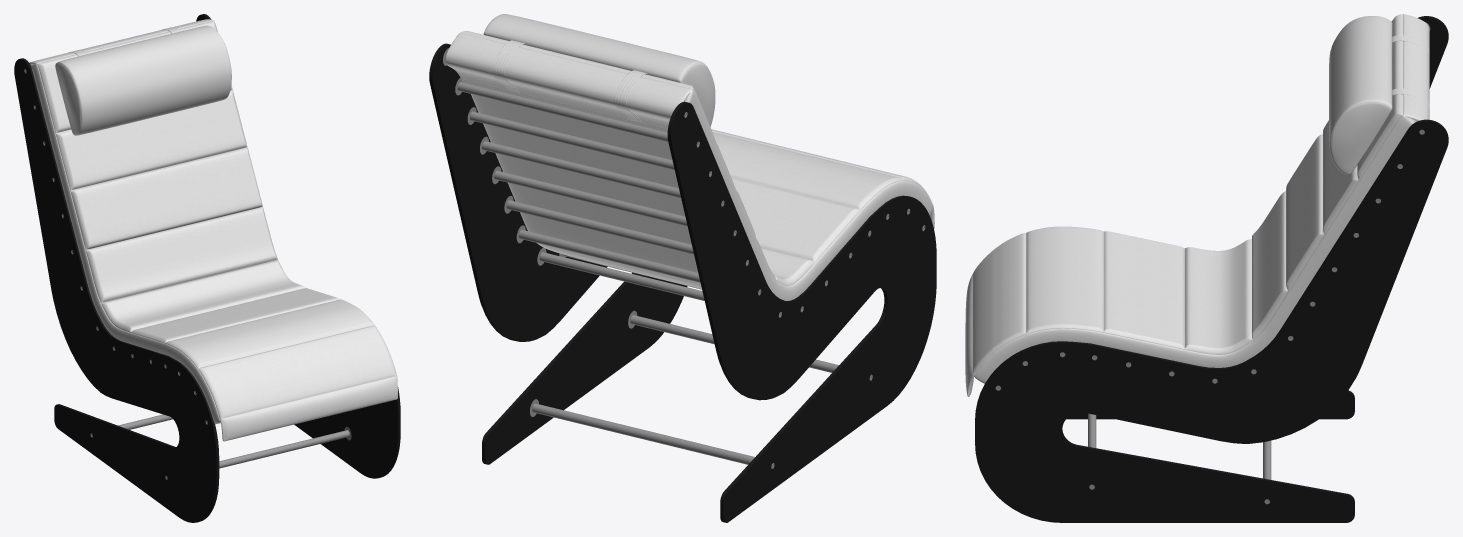
File: angel-poltrona-clun-280.glb
3 views of the same model, side by side, from view 1: azimuth 30°, elevation 25°; view 2: azimuth 150°, elevation 25°; view 3: azimuth 270°, elevation 25° (orthographic). The views are drawn at different scales.
Visible parts, largest first — view 1: angel-seduta, angel-struttura, angel-tubolare; view 2: angel-struttura, angel-seduta, angel-tubolare; view 3: angel-struttura, angel-seduta, angel-tubolare.
Boxes of the visible parts, x1,y1,x2,y2 form: angel-seduta: (29, 19, 397, 441); angel-struttura: (14, 14, 400, 522); angel-tubolare: (24, 66, 351, 479); angel-struttura: (429, 43, 936, 522); angel-seduta: (445, 14, 934, 300); angel-tubolare: (443, 48, 925, 468); angel-struttura: (975, 16, 1448, 522); angel-seduta: (965, 14, 1429, 396); angel-tubolare: (995, 22, 1430, 504).
Bounding box in the file's own units: 0.5685 × 1.04 × 1.1.
3 materials, 1 textured.
